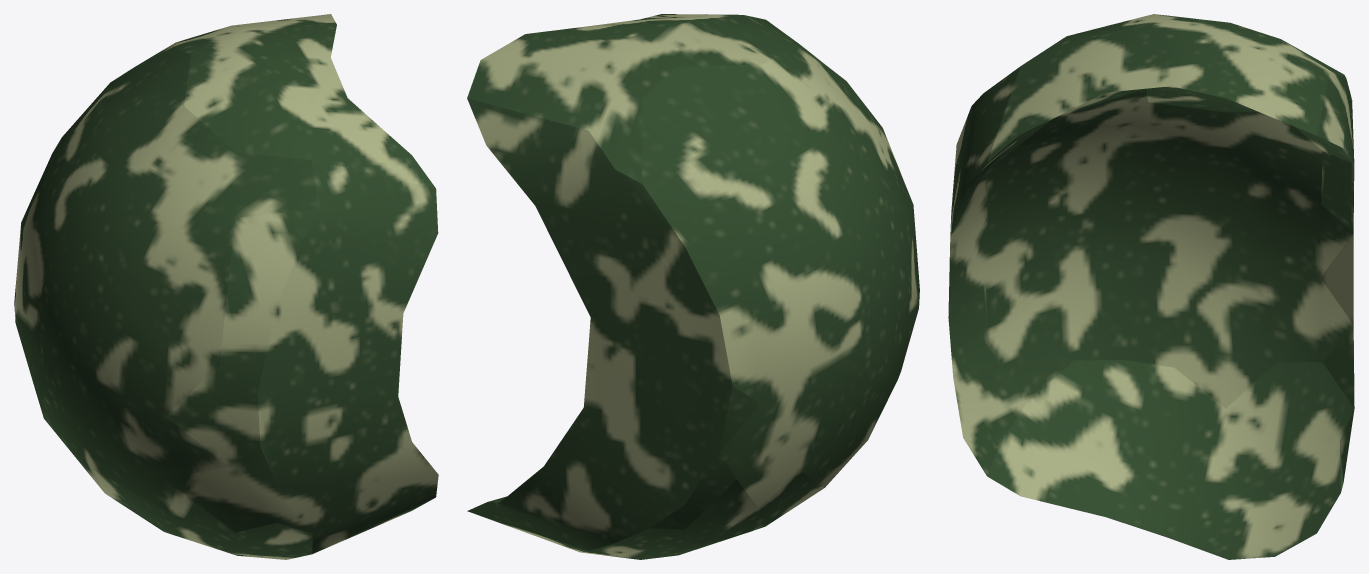
The model's file is link_body_08_composite.obj.
The picture shows the model from 3 angles, left to right: view 1: azimuth 30°, elevation 25°; view 2: azimuth 150°, elevation 25°; view 3: azimuth 270°, elevation 25°; orthographic projection. The views are drawn at different scales.
Parts seen in each view (by area): view 1: link_body_08; view 2: link_body_08; view 3: link_body_08.
Boxes of the visible parts, bbox=[...] form: link_body_08: bbox=[14, 14, 438, 559]; link_body_08: bbox=[467, 14, 919, 559]; link_body_08: bbox=[948, 14, 1354, 559].
Bounding box in the file's own units: 11.65 × 16.27 × 12.19.
1 material, 1 textured.
